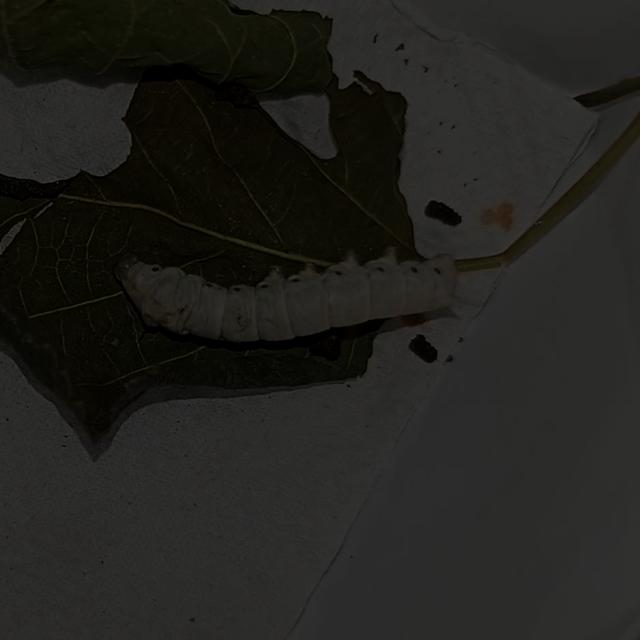Healthy: (100, 223, 504, 380)
